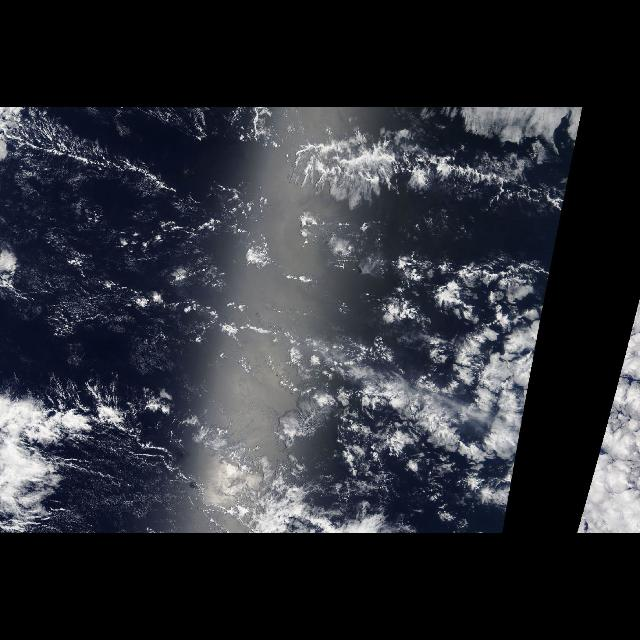Fish: (266, 126, 580, 217), (1, 115, 192, 212)
Sugar: (133, 323, 224, 402), (35, 278, 121, 342)
